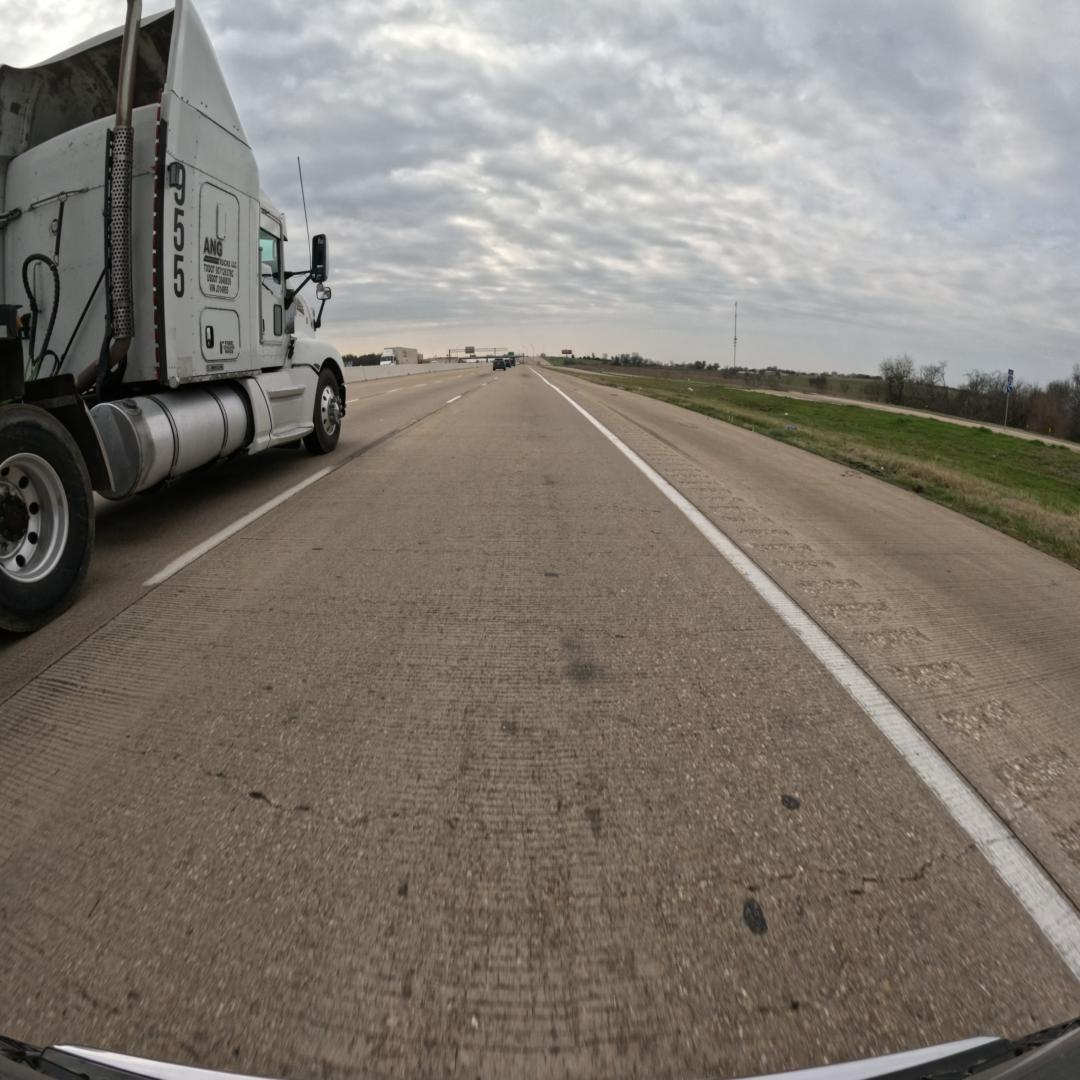lane0: (0, 373, 1080, 1077)
lane1: (0, 373, 492, 705)
